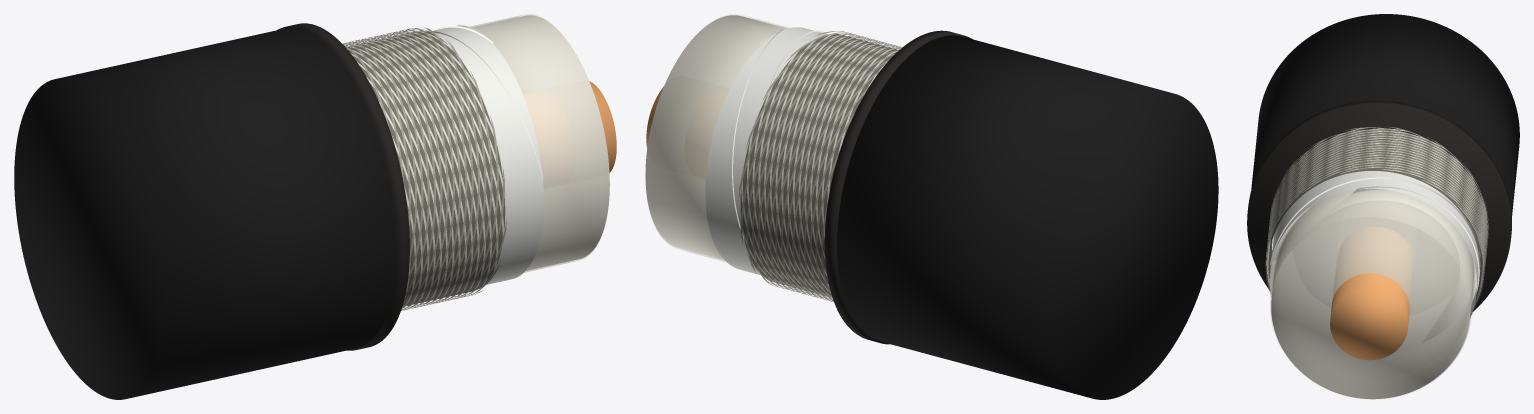
The model's file is rf-lmr600.glb.
3 views of the same model, side by side, from view 1: azimuth 30°, elevation 25°; view 2: azimuth 150°, elevation 25°; view 3: azimuth 270°, elevation 25° (orthographic). The views are drawn at different scales.
Parts seen in each view (by area): view 1: matte black pvc jacket body, smooth dielectric skin, gas injected foam dielectric, braid dark diamond recess, duobond foil sleeve, jacket cut lip, solid center conductor continuous, braid left hand woven carrier 06, braid left hand woven carrier 07, braid left hand woven carrier 04, braid left hand woven carrier 03, braid left hand woven carrier 05 (+22 smaller); view 2: matte black pvc jacket body, smooth dielectric skin, gas injected foam dielectric, braid dark diamond recess, duobond foil sleeve, jacket cut lip, braid left hand woven carrier 15, braid left hand woven carrier 01, braid left hand woven carrier 02, braid left hand woven carrier 16, braid left hand woven carrier 03, braid left hand woven carrier 14 (+15 smaller); view 3: gas injected foam dielectric, matte black pvc jacket body, jacket cut lip, solid center conductor continuous, braid dark diamond recess, smooth dielectric skin, duobond foil sleeve, subtle foil wrap lap, braid left hand woven carrier 08, braid left hand woven carrier 07, braid left hand woven carrier 09, braid left hand woven carrier 05 (+28 smaller).
Part boxes in pixels (box(x1,y1,x2,y2)): matte black pvc jacket body: box(14, 27, 396, 399); smooth dielectric skin: box(470, 14, 609, 272); gas injected foam dielectric: box(472, 15, 609, 270); braid dark diamond recess: box(346, 30, 505, 306); duobond foil sleeve: box(431, 25, 543, 284); jacket cut lip: box(277, 23, 409, 350); solid center conductor continuous: box(589, 81, 616, 172); braid left hand woven carrier 06: box(396, 29, 467, 309); braid left hand woven carrier 07: box(402, 28, 473, 307); braid left hand woven carrier 04: box(383, 32, 454, 310); braid left hand woven carrier 03: box(377, 33, 448, 310); braid left hand woven carrier 05: box(390, 30, 460, 310); matte black pvc jacket body: box(837, 35, 1218, 399); smooth dielectric skin: box(645, 14, 789, 262); gas injected foam dielectric: box(645, 15, 786, 259); braid dark diamond recess: box(740, 34, 898, 297); duobond foil sleeve: box(705, 27, 827, 275); jacket cut lip: box(824, 30, 972, 344); braid left hand woven carrier 15: box(769, 46, 902, 291); braid left hand woven carrier 01: box(758, 43, 896, 288); braid left hand woven carrier 02: box(752, 42, 899, 286); braid left hand woven carrier 16: box(763, 45, 901, 290); braid left hand woven carrier 03: box(746, 40, 894, 273); braid left hand woven carrier 14: box(775, 48, 900, 293); gas injected foam dielectric: box(1271, 190, 1474, 399); matte black pvc jacket body: box(1251, 14, 1519, 215); jacket cut lip: box(1247, 101, 1511, 311); solid center conductor continuous: box(1330, 227, 1414, 360); braid dark diamond recess: box(1268, 129, 1484, 298); smooth dielectric skin: box(1270, 190, 1475, 399); duobond foil sleeve: box(1269, 171, 1480, 317); subtle foil wrap lap: box(1270, 177, 1480, 342); braid left hand woven carrier 08: box(1266, 127, 1487, 257); braid left hand woven carrier 07: box(1267, 126, 1487, 258); braid left hand woven carrier 09: box(1266, 129, 1487, 276); braid left hand woven carrier 05: box(1267, 158, 1488, 263).
Size of the model in its own units: 6.6 by 3.78 by 3.9.
